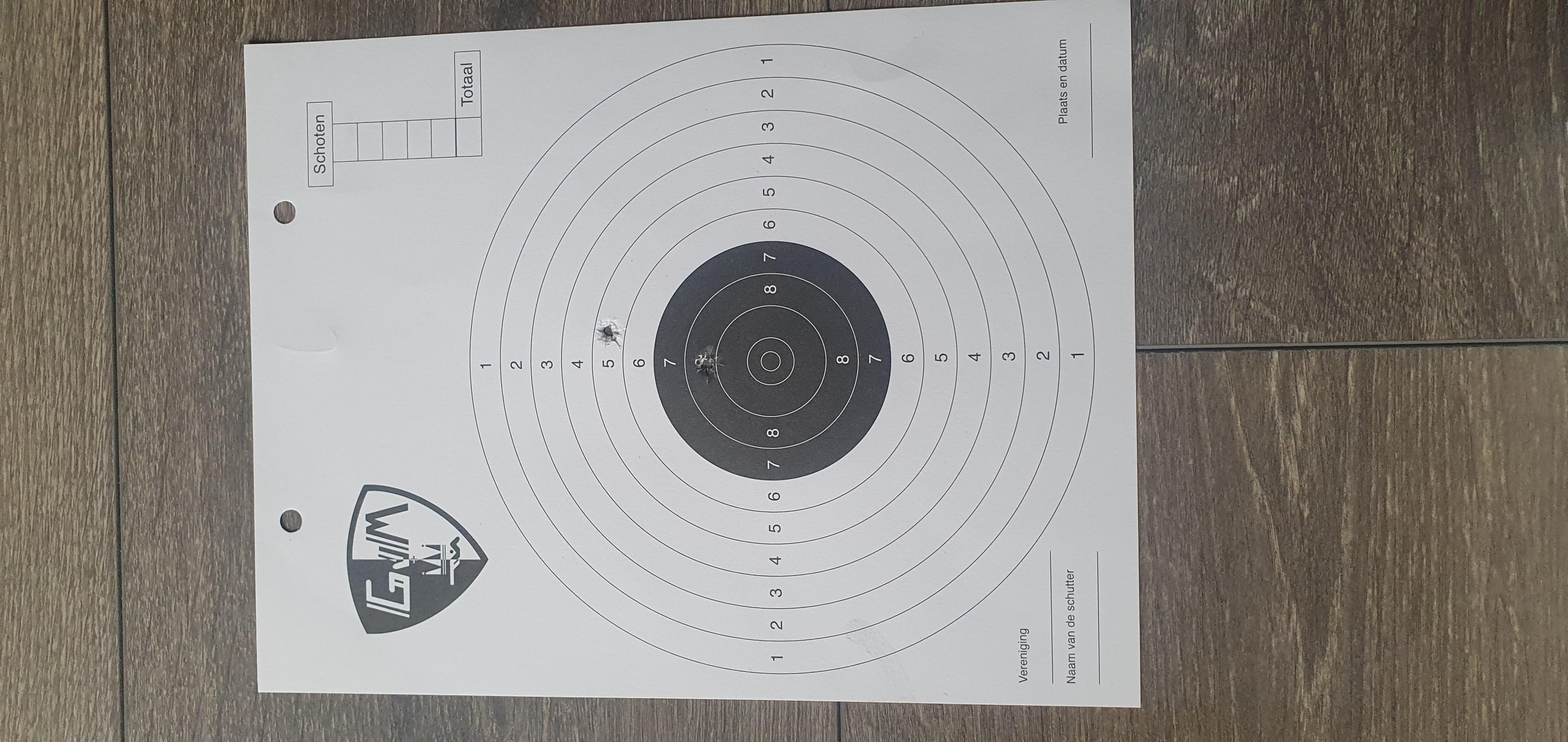hole: (769, 326, 829, 342), (838, 282, 896, 295)
